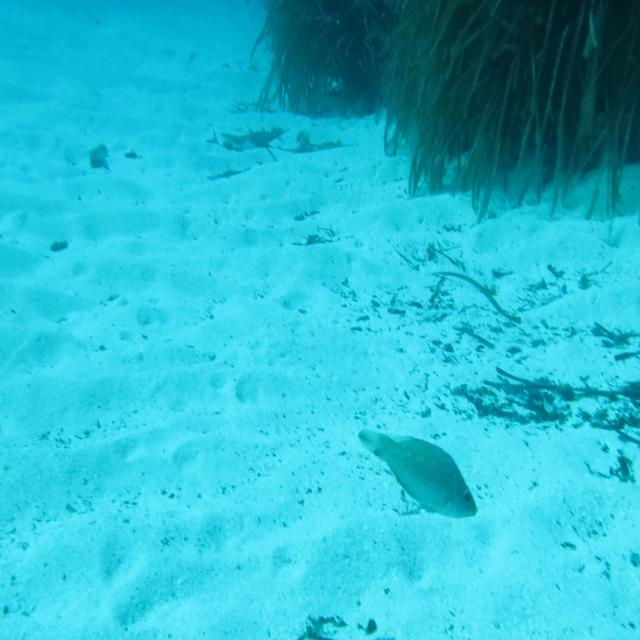BN: (358, 426, 478, 520)
vegetation: (329, 3, 640, 141)
